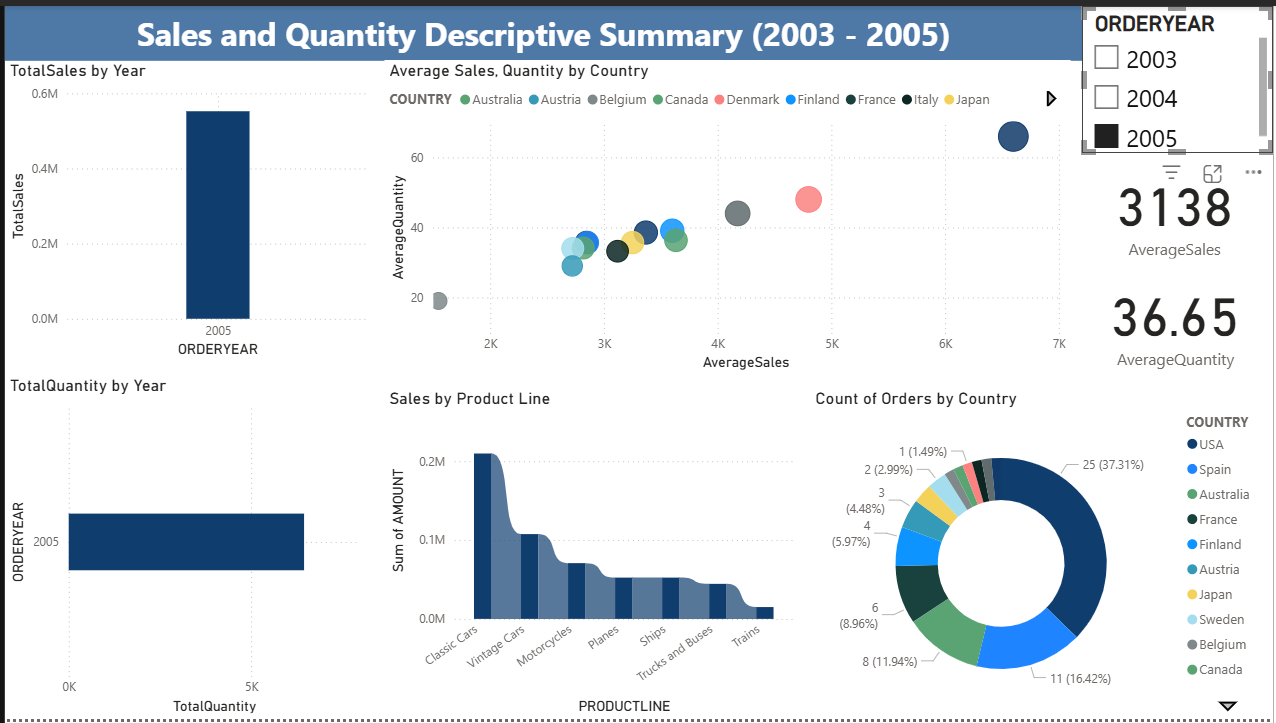

Layout of this report page (visuals, bound fields, positions):
{"tool":"powerbi","page":{"name":"Page 1","canvas":[1280,720],"ordinal":0},"visuals":[{"type":"columnChart","title":"TotalSales by Year","fields":{"Category":["orders.ORDERYEAR Hierarchy.ORDERYEAR","orders.ORDERYEAR Hierarchy.ORDERQUARTER","orders.ORDERYEAR Hierarchy.ORDERMONTH","orders.ORDERYEAR Hierarchy.ORDERDAY","orders.ORDERYEAR Hierarchy.AMOUNT"],"Y":["orders.TotalSales"]},"box":[0,55.3,371.2,303.9],"z":0},{"type":"textbox","box":[0,0,1087.8,55.3],"z":1000},{"type":"clusteredBarChart","title":"TotalQuantity by Year","fields":{"Category":["orders.ORDERYEAR Hierarchy.ORDERYEAR","orders.ORDERYEAR Hierarchy.ORDERQUARTER","orders.ORDERYEAR Hierarchy.ORDERMONTH","orders.ORDERYEAR Hierarchy.ORDERDAY","orders.ORDERYEAR Hierarchy.AMOUNT"],"Y":["orders.TotalQuantity"]},"box":[0,372.8,370.6,346],"z":2000},{"type":"slicer","fields":{"Values":["orders.ORDERYEAR"]},"box":[1087.8,0,191.7,148.5],"z":3000},{"type":"donutChart","title":"Count of Orders by Country","fields":{"Category":["customers.COUNTRY"],"Y":["CountNonNull(customers.ORDERNUMBER)"]},"box":[813.2,386.8,466.2,333.2],"z":4000},{"type":"ribbonChart","title":"Sales by Product Line","fields":{"Category":["orders.PRODUCTLINE"],"Y":["Sum(orders.AMOUNT)"]},"box":[383.3,386.8,417.8,333.2],"z":5000},{"type":"card","fields":{"Values":["orders.AverageSales"]},"box":[1087.8,153.7,186.5,107.1],"z":6000},{"type":"card","fields":{"Values":["orders.AverageQuantity"]},"box":[1087.8,260.7,188.2,114],"z":7000},{"type":"scatterChart","title":"Average Sales, Quantity by Country","fields":{"X":["orders.AverageSales"],"Y":["orders.AverageQuantity"],"Category":["customers.COUNTRY"],"Series":["customers.COUNTRY"],"Size":["orders.AverageQuantity"]},"box":[383.3,55.3,692.4,317.7],"z":8000}]}

Visuals, with their boxes in screenshot pixels (x1, y1, x2, y2), scaled from the page's 1280x720 canvas onto the 1276x723 screenshot:
"TotalSales by Year" columnChart: (0, 56, 370, 361)
textbox: (0, 0, 1084, 56)
"TotalQuantity by Year" clusteredBarChart: (0, 374, 369, 722)
slicer - orders.ORDERYEAR: (1084, 0, 1275, 149)
"Count of Orders by Country" donutChart: (811, 388, 1275, 722)
"Sales by Product Line" ribbonChart: (382, 388, 799, 722)
card - orders.AverageSales: (1084, 154, 1270, 262)
card - orders.AverageQuantity: (1084, 262, 1272, 376)
"Average Sales, Quantity by Country" scatterChart: (382, 56, 1072, 375)
